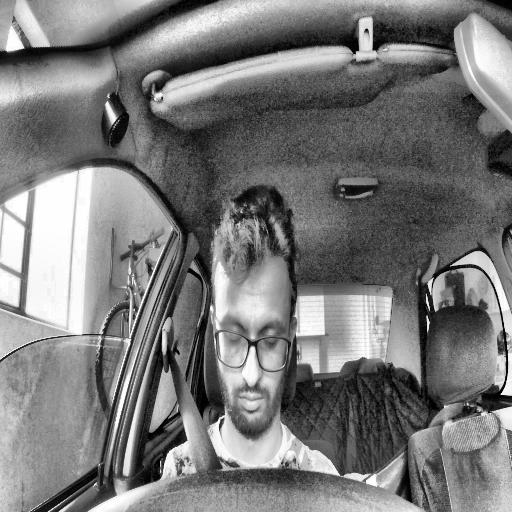drowsy: (210, 182, 297, 436)
